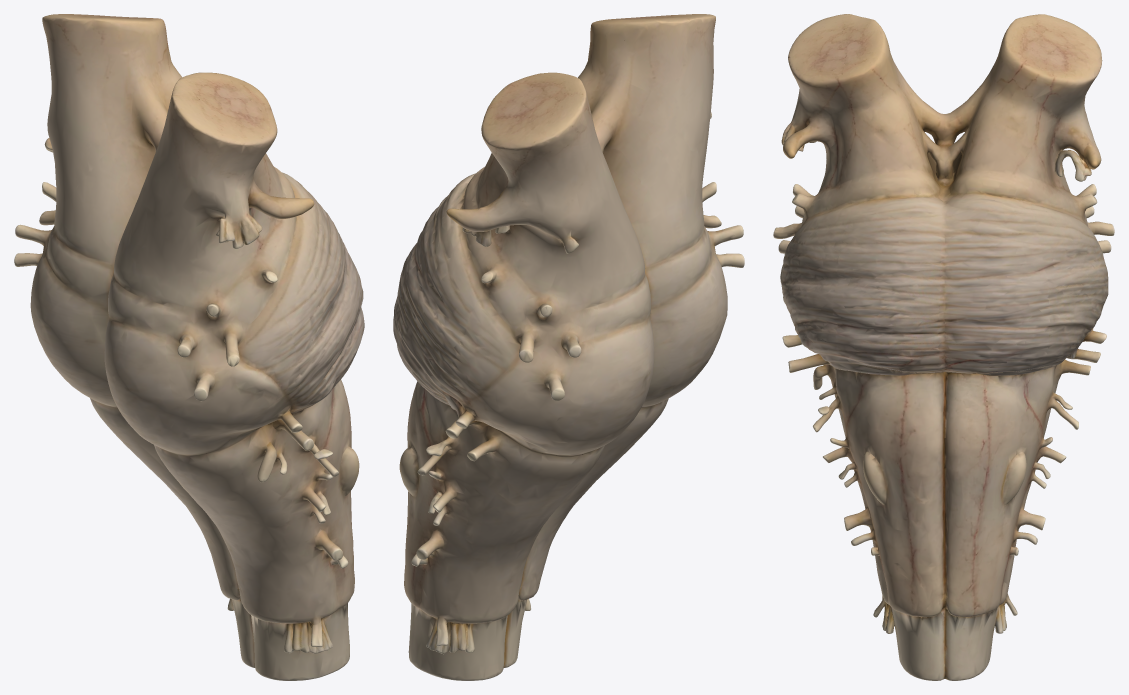
File: brainstem.glb
3 renders of one model, left to right at view 1: azimuth 30°, elevation 25°; view 2: azimuth 150°, elevation 25°; view 3: azimuth 270°, elevation 25°, orthographic. The views are drawn at different scales.
Parts seen in each view (by area): view 1: tripo_node_476a5160-79bd-4f3b-9763-549d04b845cc; view 2: tripo_node_476a5160-79bd-4f3b-9763-549d04b845cc; view 3: tripo_node_476a5160-79bd-4f3b-9763-549d04b845cc.
Part boxes in pixels (x1=…): tripo_node_476a5160-79bd-4f3b-9763-549d04b845cc: x1=14, y1=14, x2=364, y2=680; tripo_node_476a5160-79bd-4f3b-9763-549d04b845cc: x1=393, y1=14, x2=744, y2=680; tripo_node_476a5160-79bd-4f3b-9763-549d04b845cc: x1=773, y1=14, x2=1114, y2=680.
Bounding box in the file's own units: 0.426 × 0.9999 × 0.5371.
Materials: 1 (1 with a texture image).
